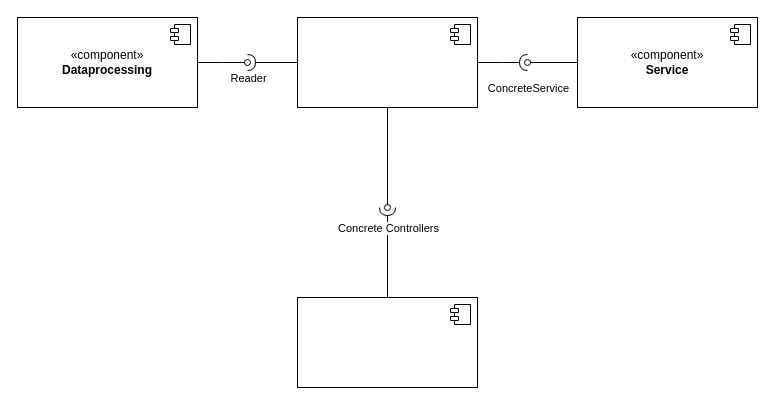
This 775x405 diagram has some shape labels left out. The shapes that lost their labels are listed below. From the top down, each one's centre as x and y in pixels, then its label:
point (387, 62): «component» Controller
point (387, 342): «component» MainApplication
